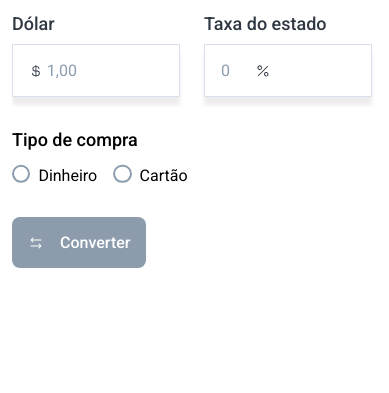
Test: Form Component › should display error messages for required fields and prevent form submission
Click the button "Converter". click: point(79, 242)
box: [12, 217, 146, 268]
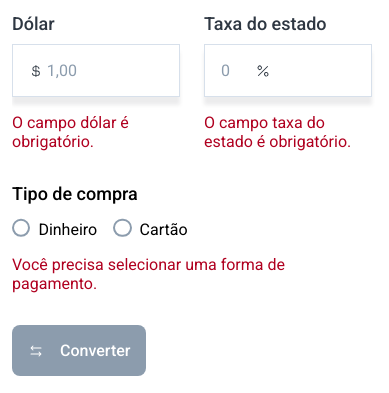
Check: the text "O campo dólar é obrigatório." is shown, box [12, 113, 129, 151]
Check: the text "O campo taxa do estado é obrigatório." is shown, box [204, 113, 372, 151]
Check: the text "Você precisa selecionar uma forma de pagamento." is shown, box [12, 255, 285, 293]
